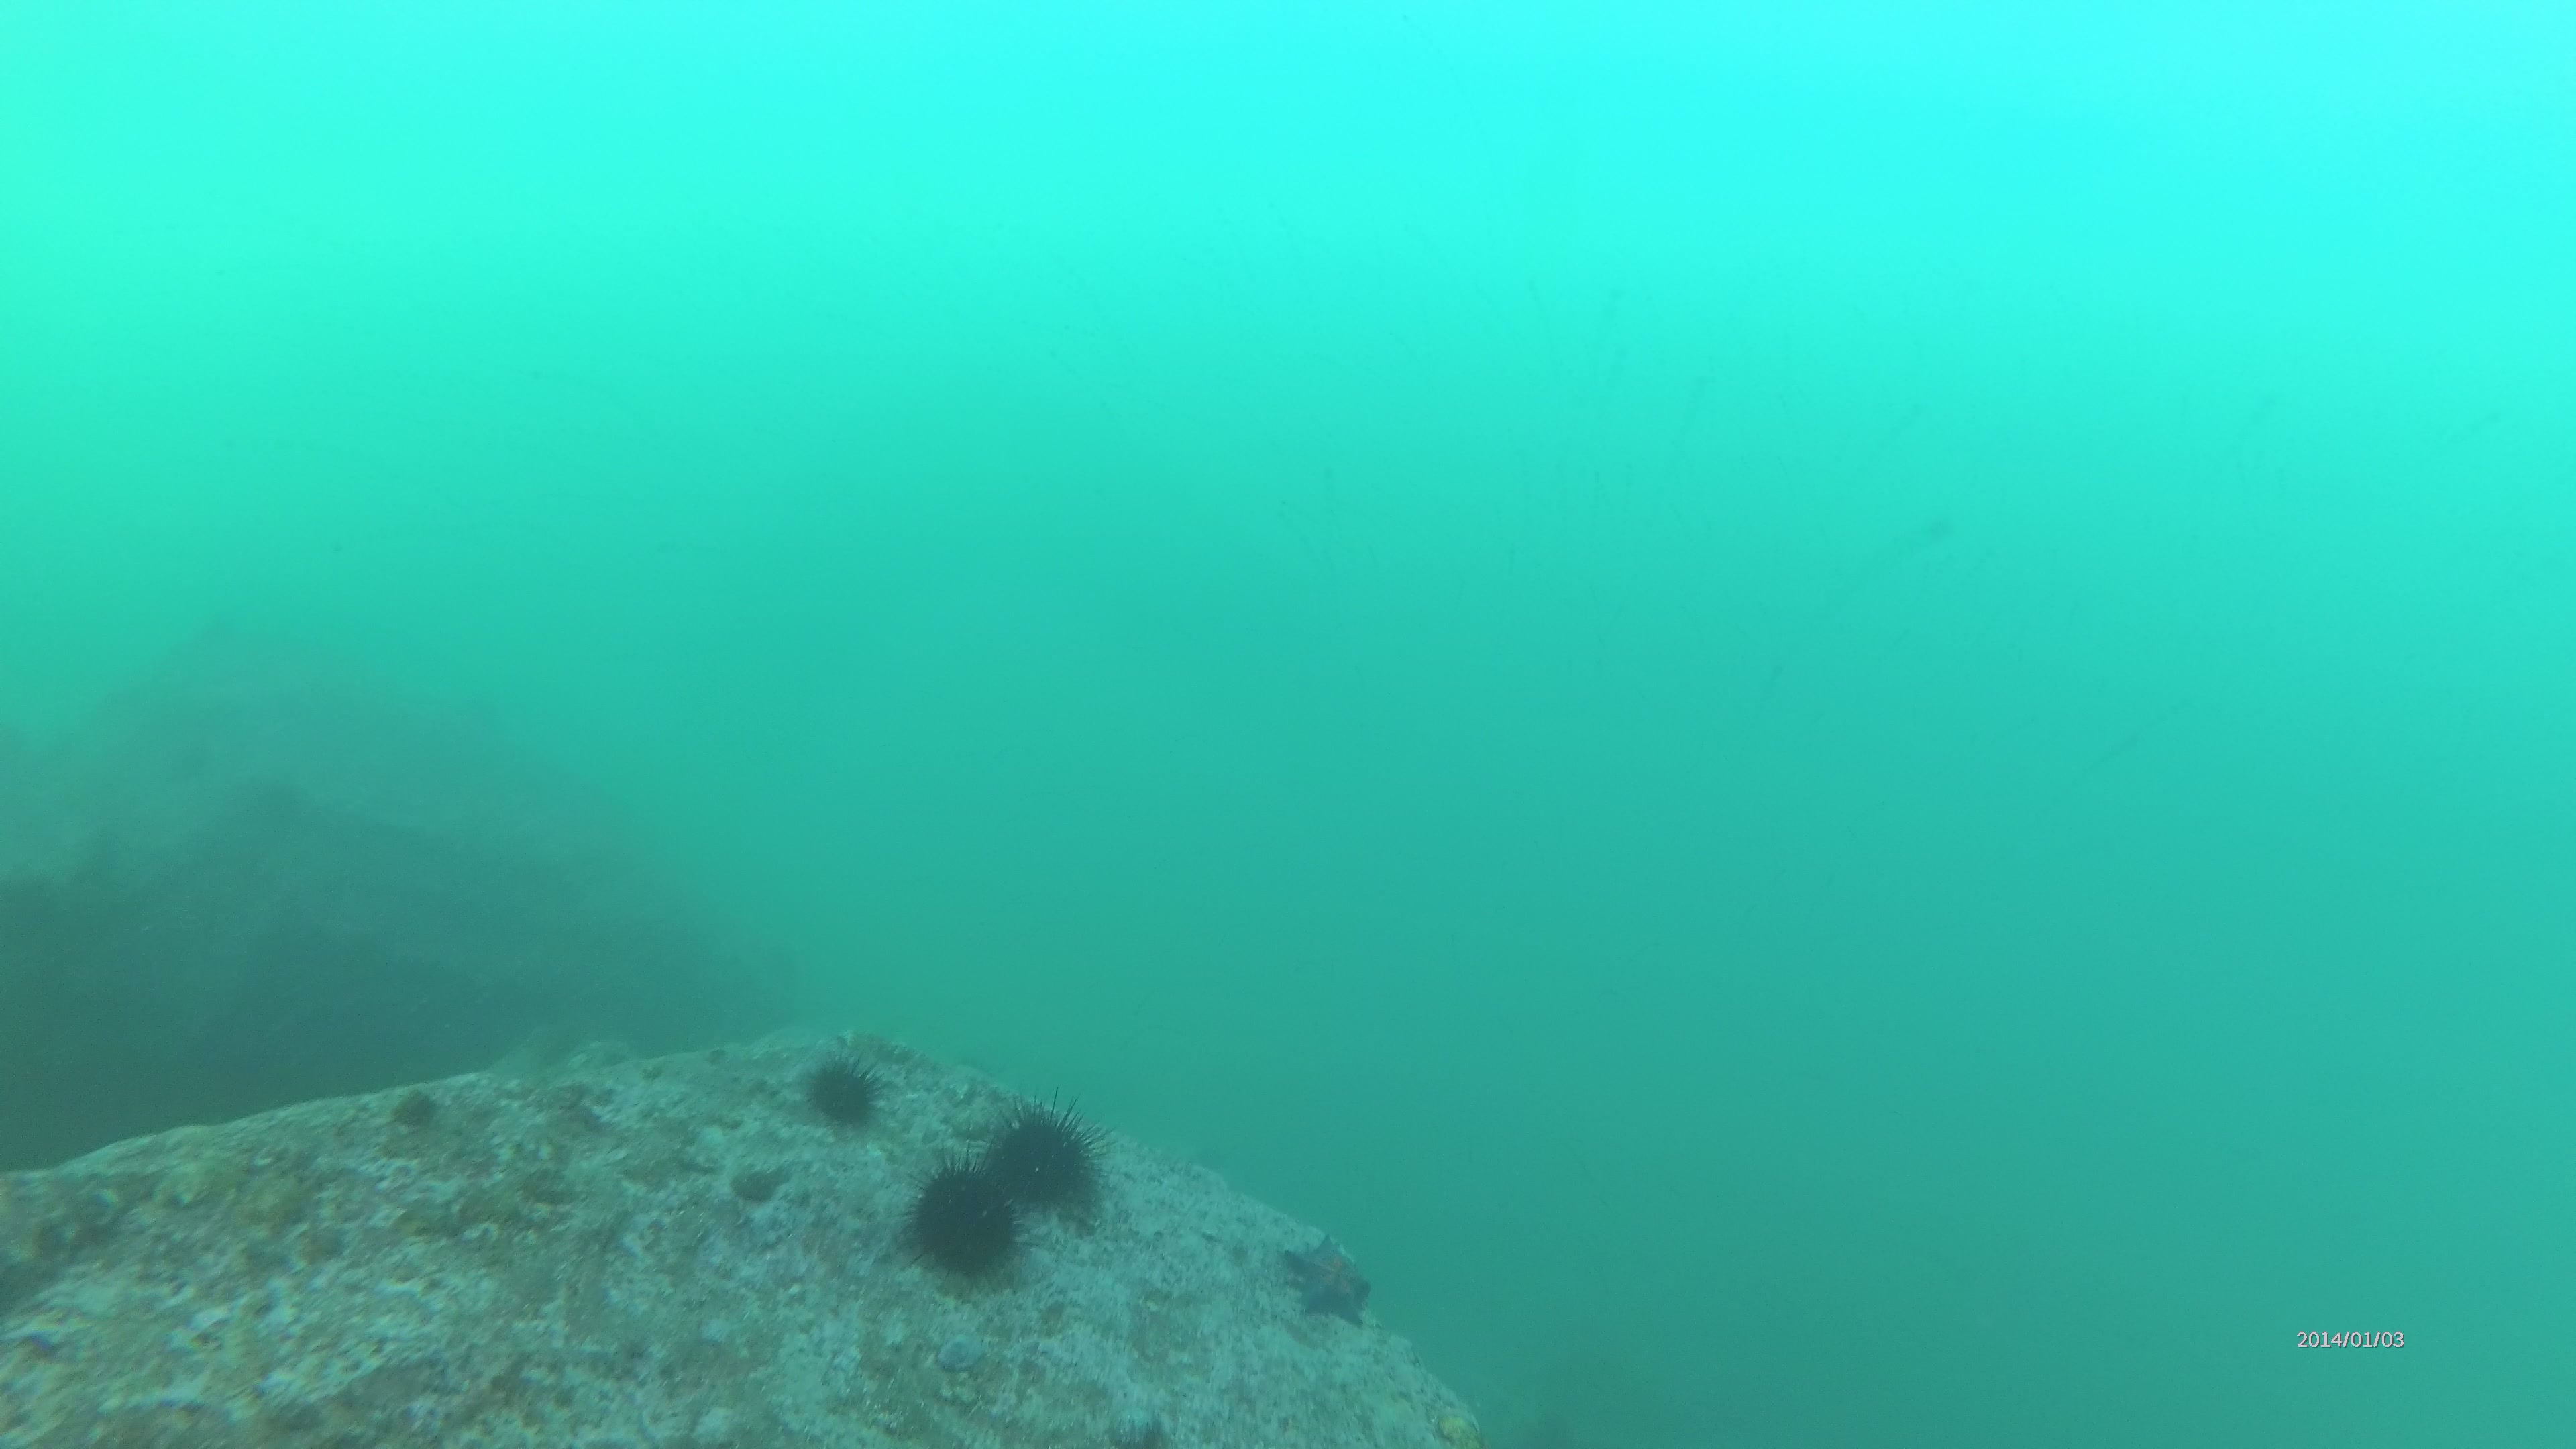echinus: (893, 1154, 1046, 1292), (973, 1086, 1123, 1224), (789, 1051, 893, 1122)
starfish: (1279, 1217, 1387, 1336)
